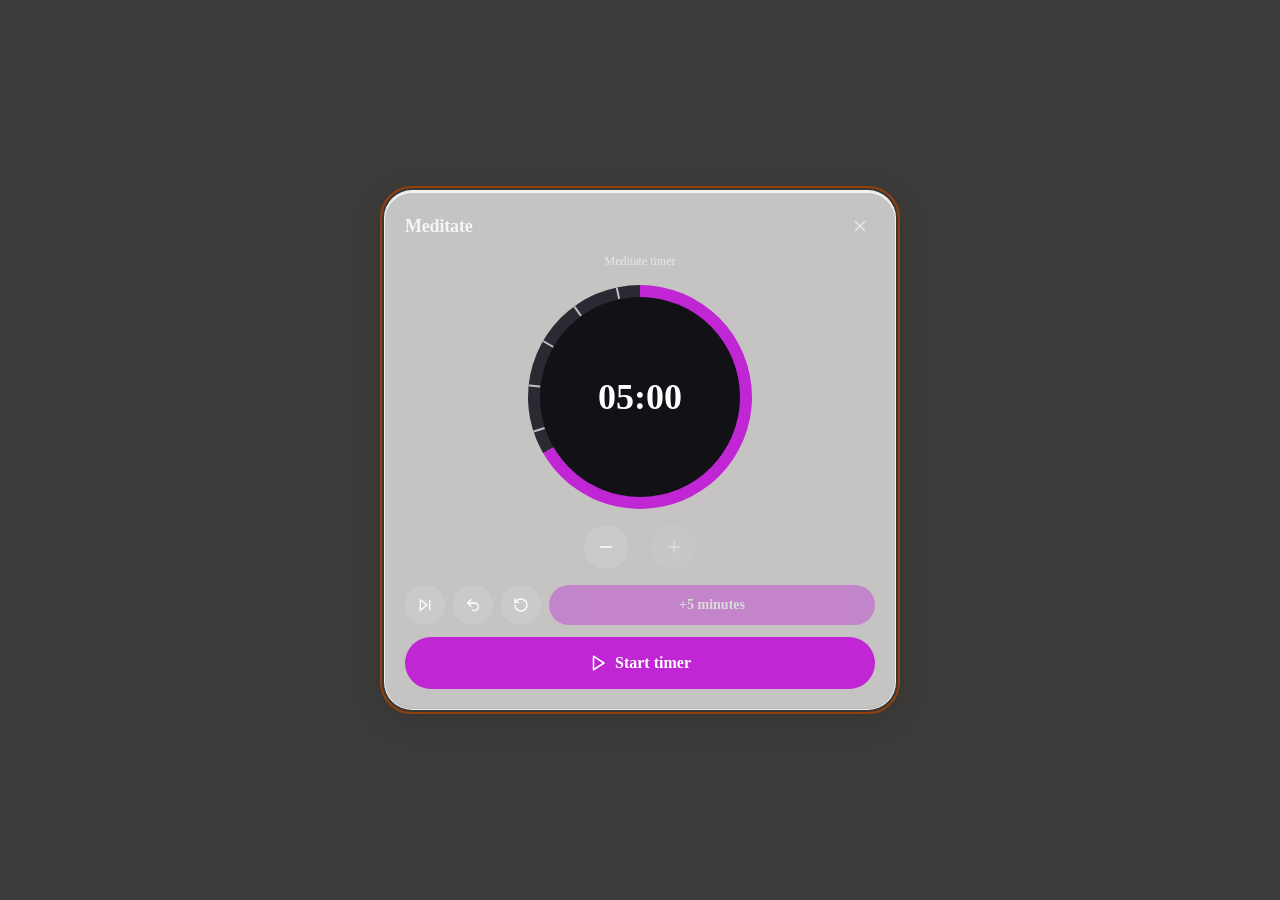
Test case: TimerModal › resets back to the full duration
The image size is (1280, 900).
Click the button named "reset timer".
click(521, 605)  # box [501, 585, 541, 625]
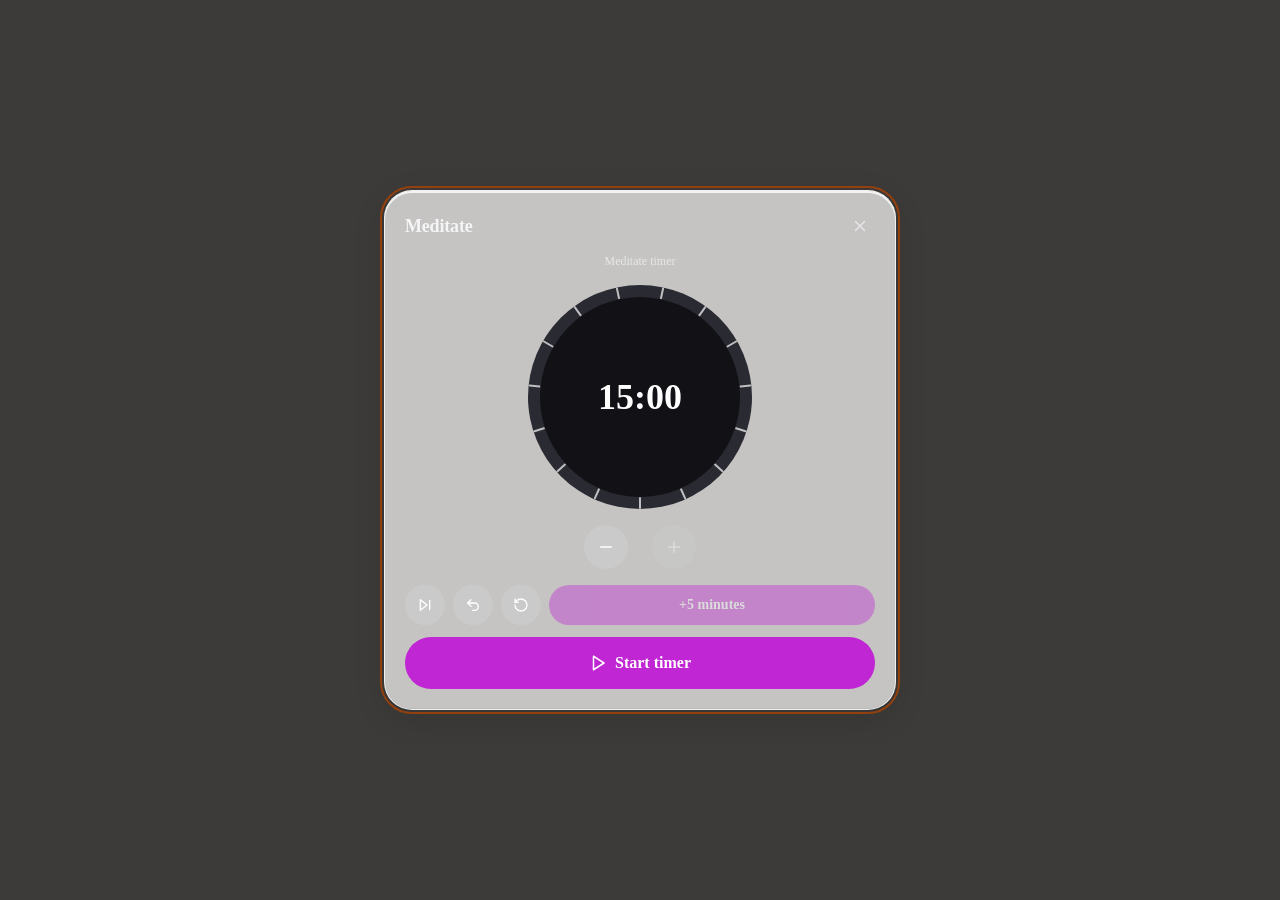
Expected: the text "15:00" is shown, [598, 377, 682, 417]
